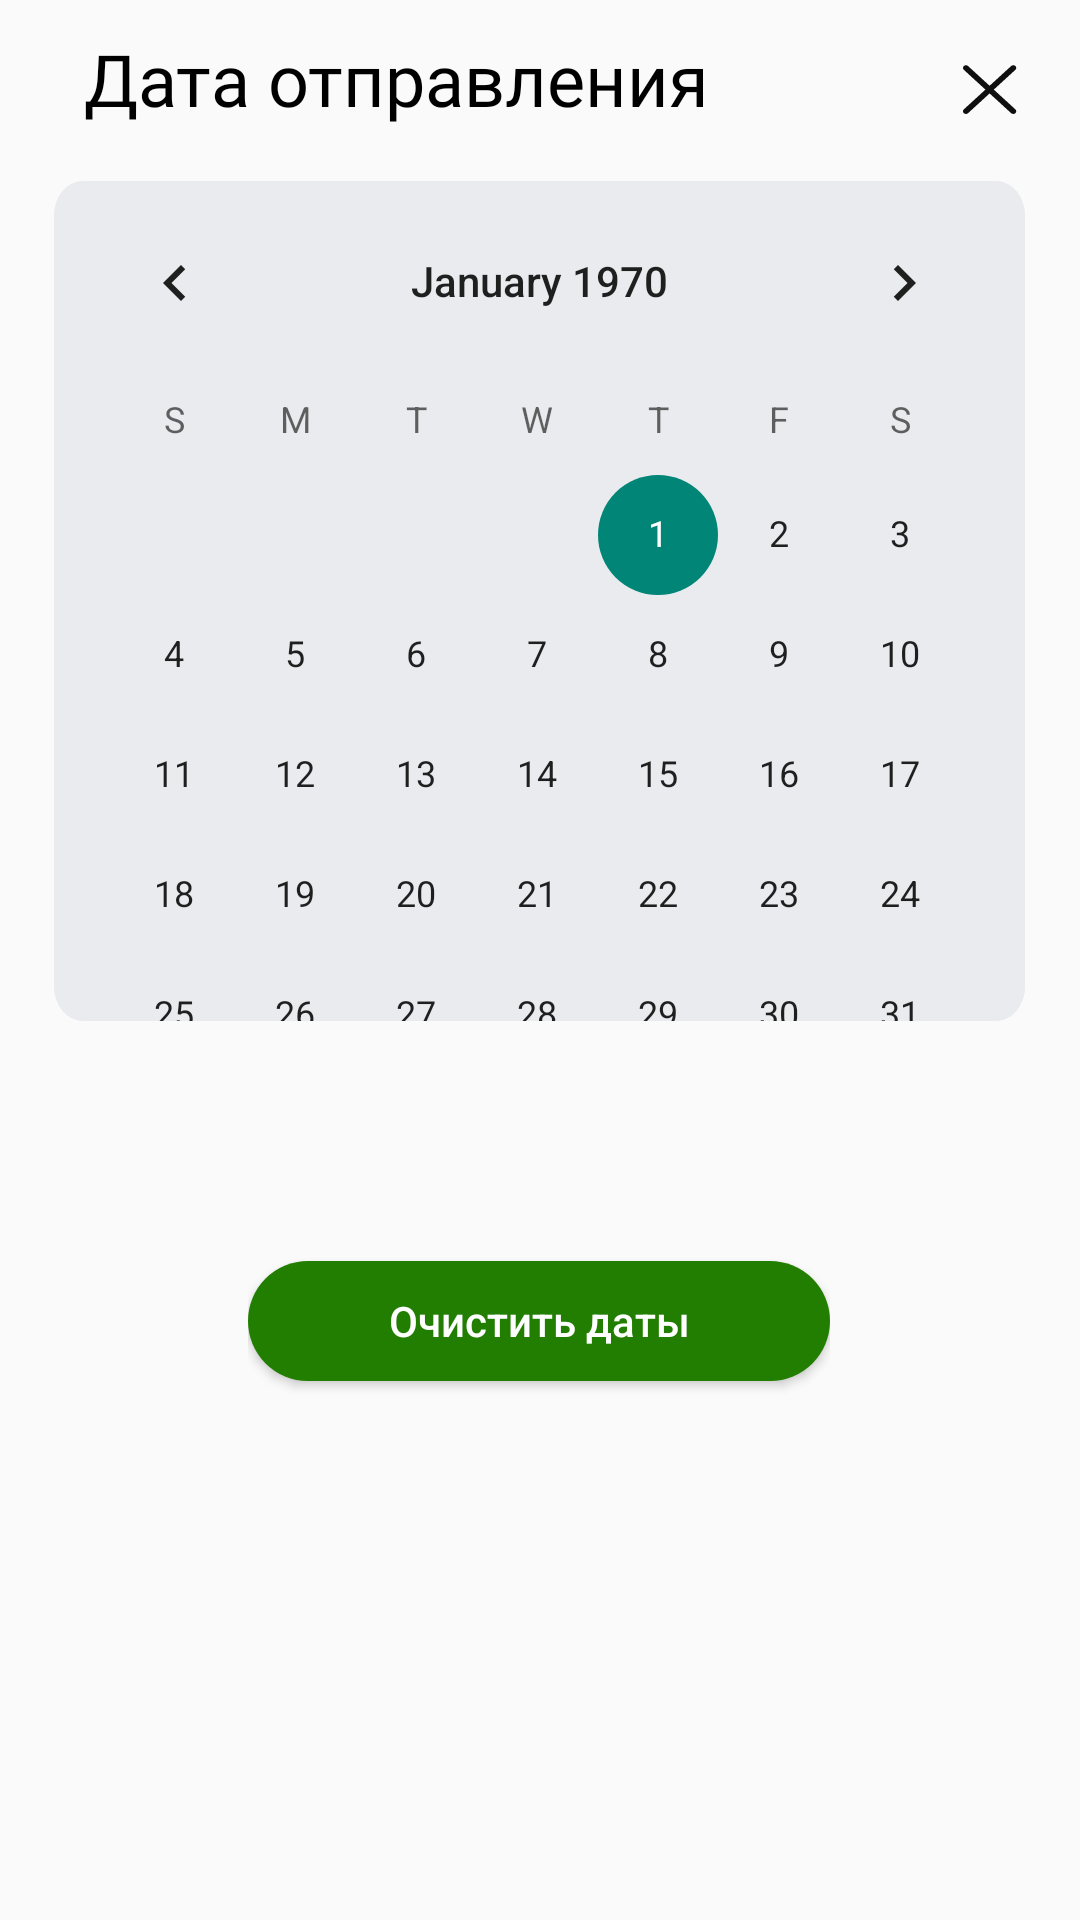

Named icons in this screenshot (1080×1920) and their bounding boxes, (x1, y1, x2, y2):
close: (963, 65, 1017, 114)
